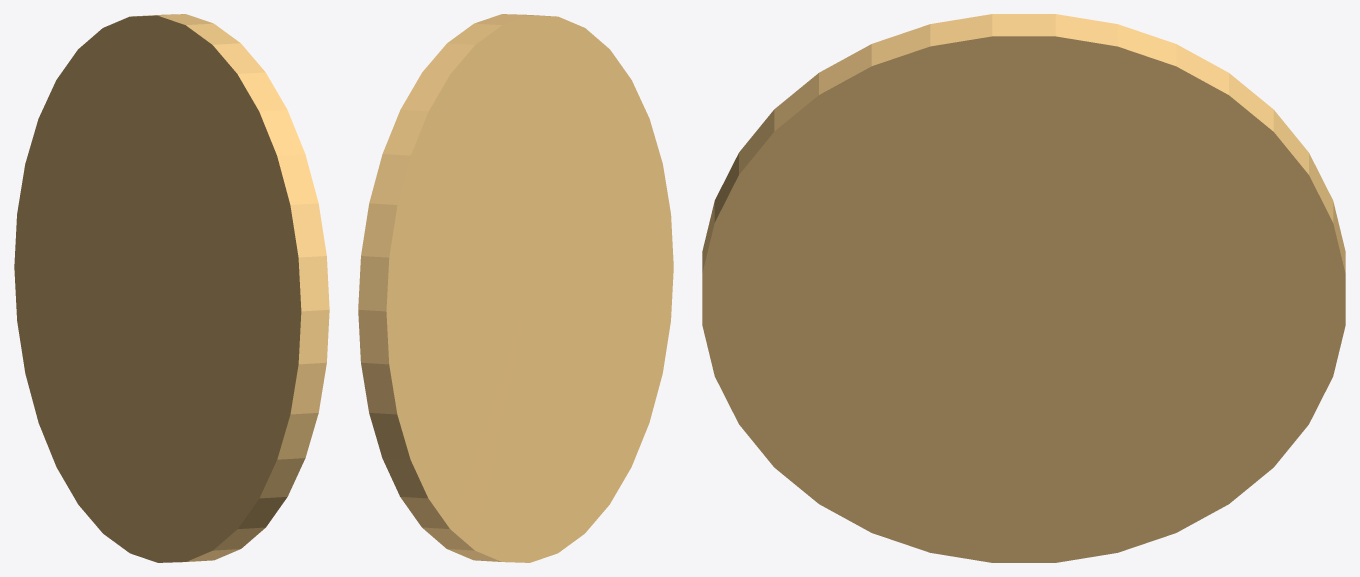
The model's file is anashe_Pioneer_p3dx_visible_vis_12.dae.
3 views of the same model, side by side, from view 1: azimuth 30°, elevation 25°; view 2: azimuth 150°, elevation 25°; view 3: azimuth 270°, elevation 25° (orthographic). The views are drawn at different scales.
Parts seen in each view (by area): view 1: Node_0x776b6da047a0; view 2: Node_0x776b6da047a0; view 3: Node_0x776b6da047a0.
Part boxes in pixels (box(x1,y1,x2,y2)): Node_0x776b6da047a0: box(14, 14, 329, 562); Node_0x776b6da047a0: box(358, 14, 673, 562); Node_0x776b6da047a0: box(702, 14, 1345, 562).
Size of the model in its own units: 0.00831 by 0.0353 by 0.0355.
